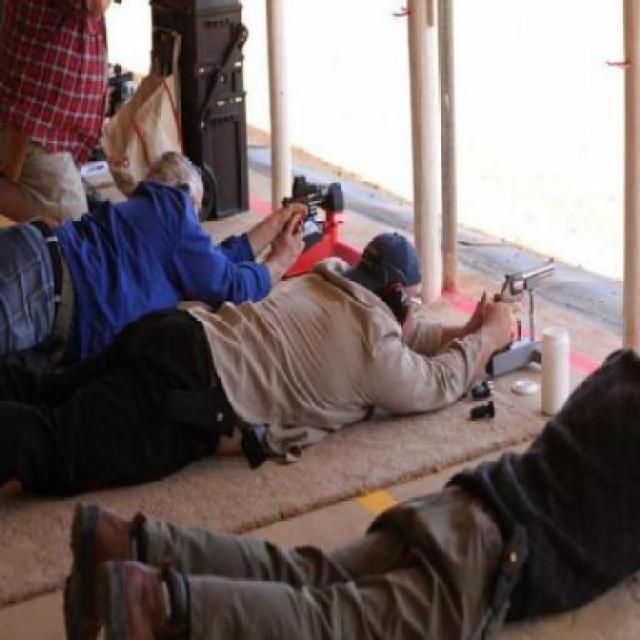gun: (480, 244, 558, 338), (277, 166, 343, 226)
